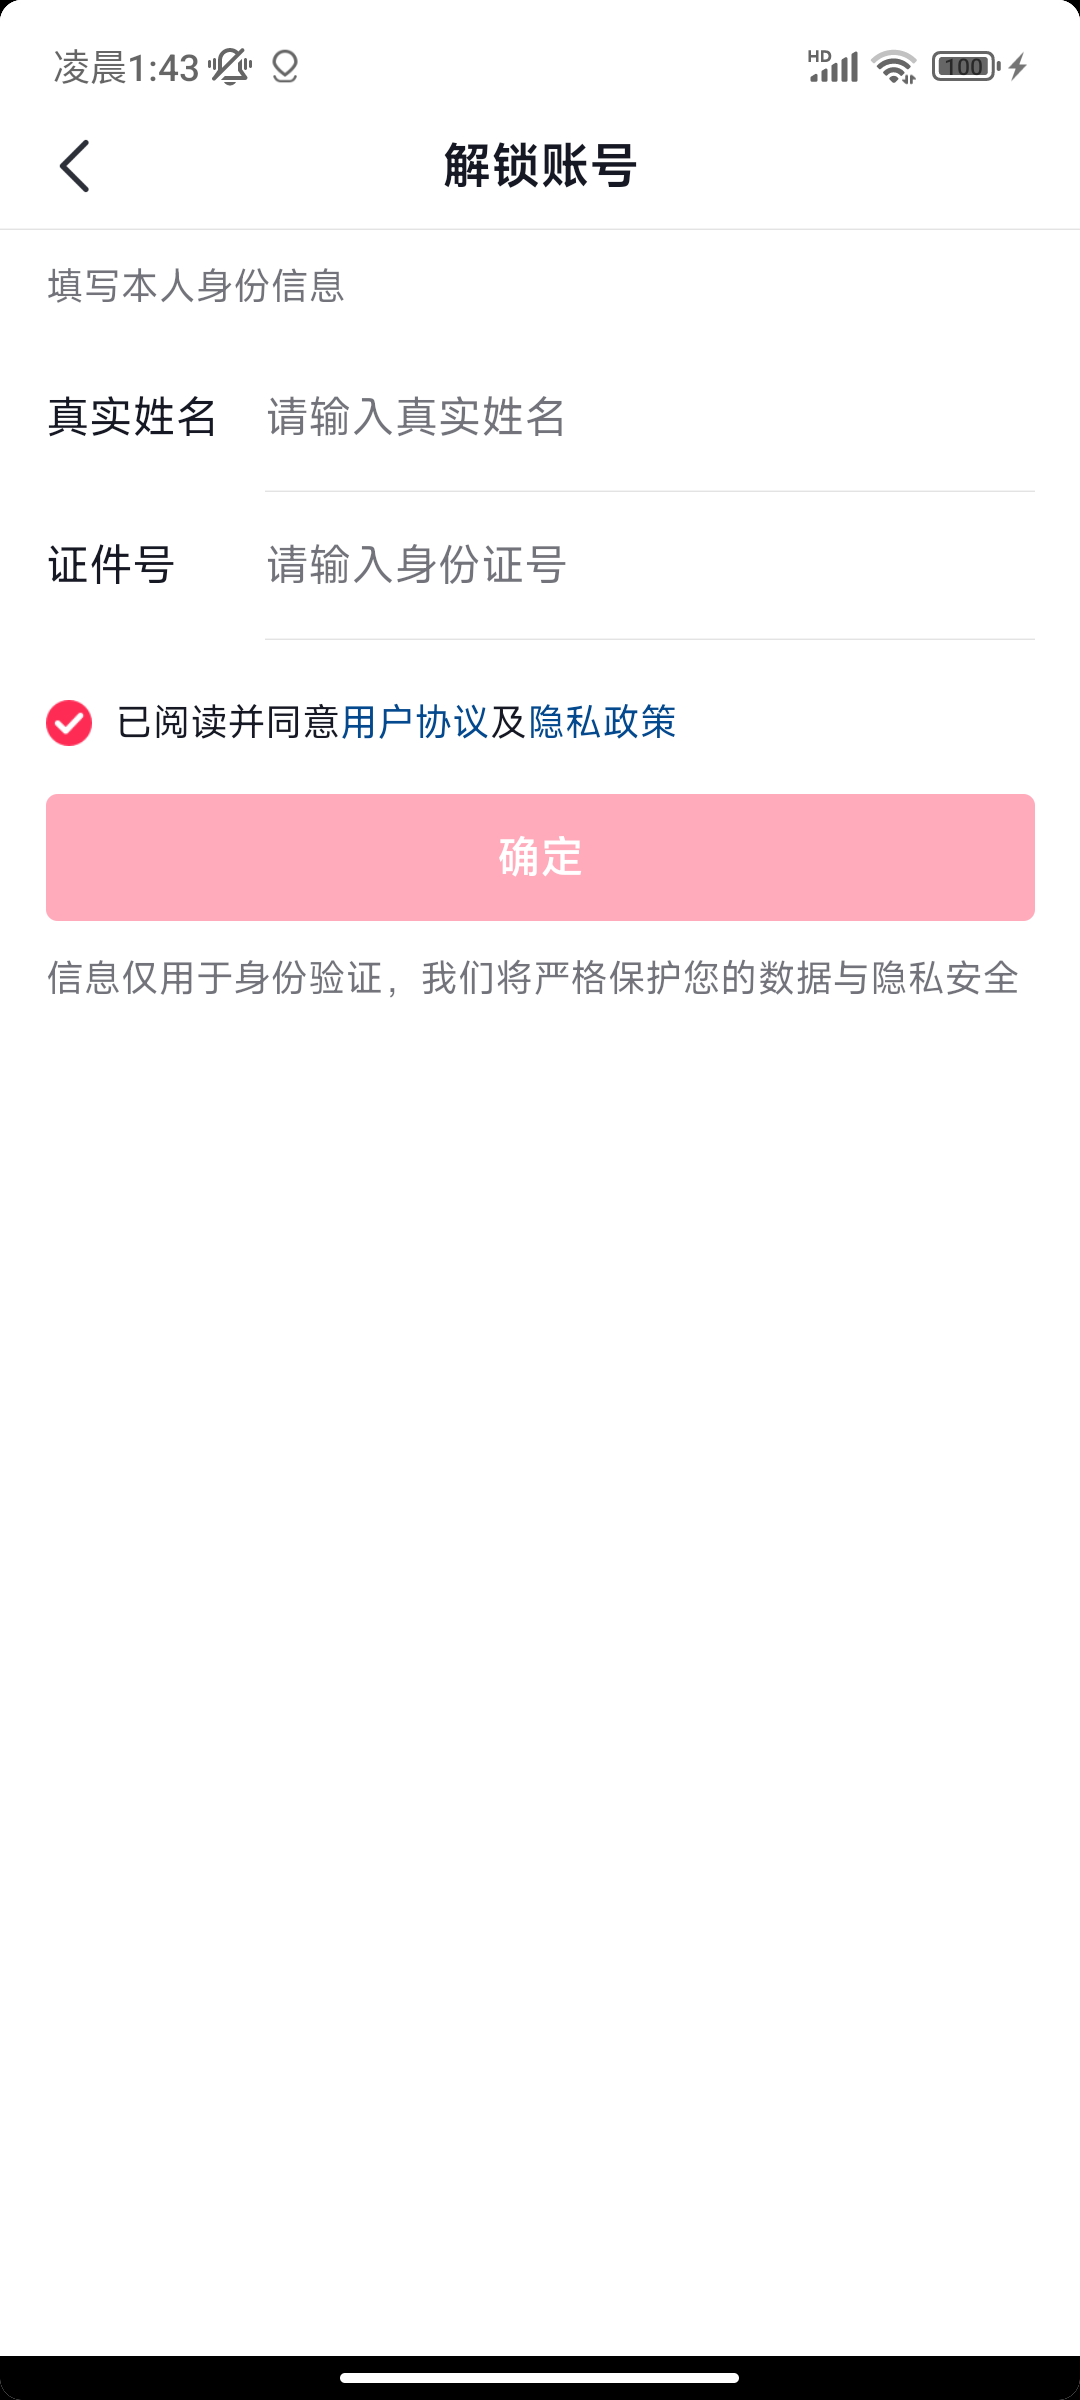ui_group: (23, 683, 1057, 1012), (24, 514, 1028, 647), (24, 357, 1033, 485)
